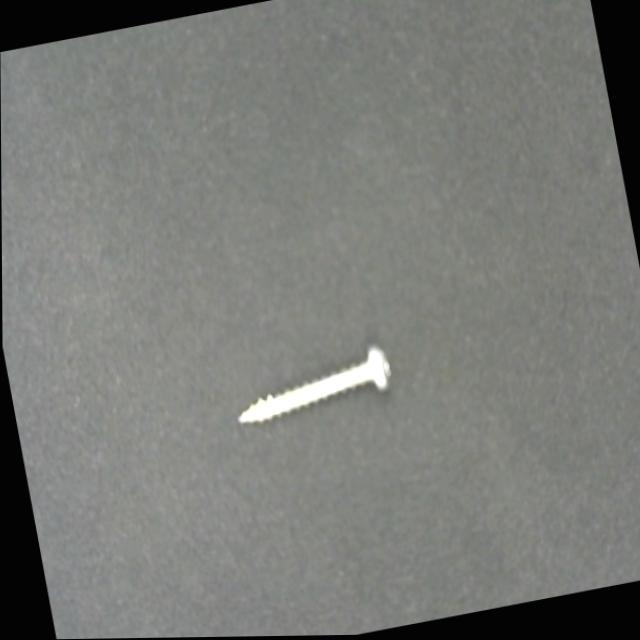SheetMetalScrew: (226, 342, 397, 431)
